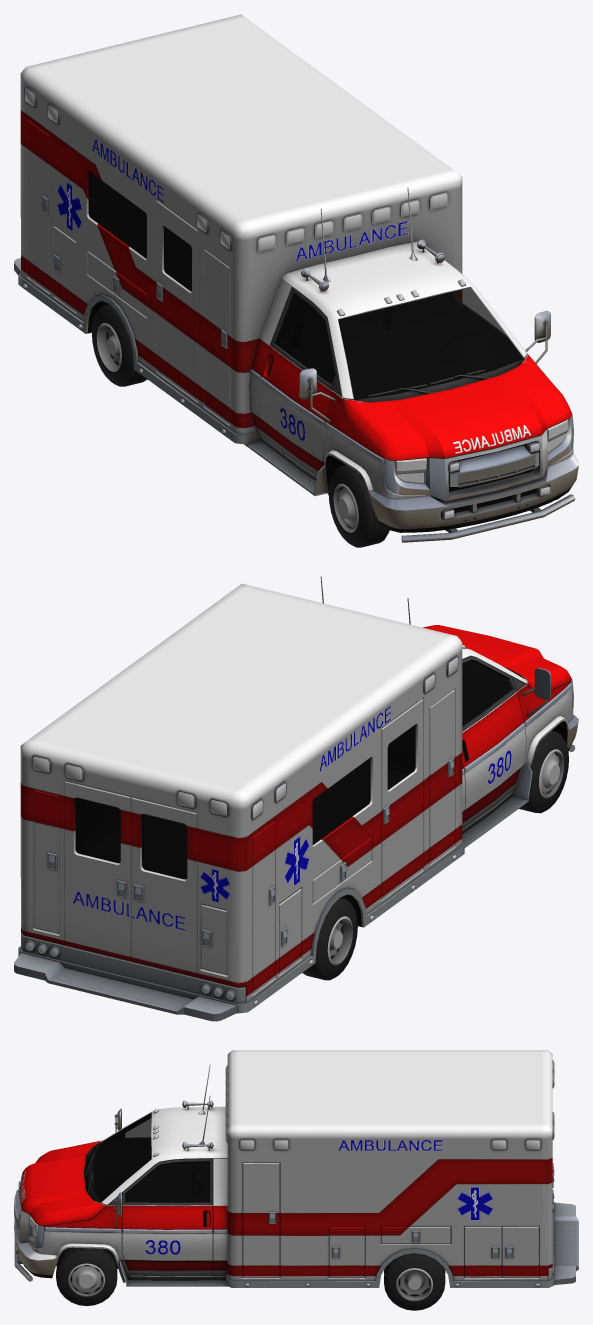
The model's file is ambulance.fbx.
The picture shows the model from 3 angles, top to bottom: view 1: azimuth 30°, elevation 25°; view 2: azimuth 150°, elevation 25°; view 3: azimuth 270°, elevation 25°; orthographic projection. The views are drawn at different scales.
Parts seen in each view (by area): view 1: ambulance, ambulance_wheelFR, ambulance_wheelRR; view 2: ambulance, ambulance_wheelRR, ambulance_wheelFR; view 3: ambulance, ambulance_wheelFL, ambulance_wheelRL.
Part boxes in pixels (x1,y1,x2,y2): ambulance: [14, 14, 578, 542]; ambulance_wheelFR: [328, 465, 389, 547]; ambulance_wheelRR: [91, 304, 147, 386]; ambulance: [14, 576, 578, 1021]; ambulance_wheelRR: [302, 897, 357, 980]; ambulance_wheelFR: [519, 730, 568, 813]; ambulance: [14, 1050, 578, 1287]; ambulance_wheelFL: [56, 1247, 117, 1306]; ambulance_wheelRL: [384, 1253, 445, 1310].
Size of the model in its own units: 2707 by 2690 by 7208.
